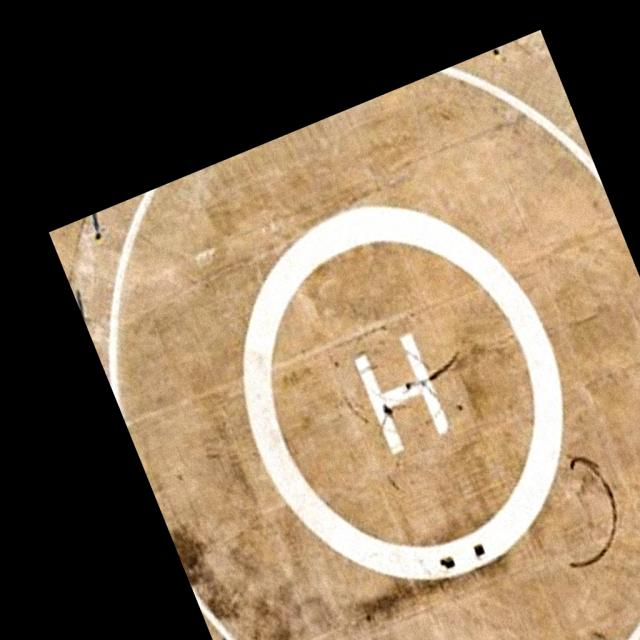helipad: (235, 202, 569, 582)
